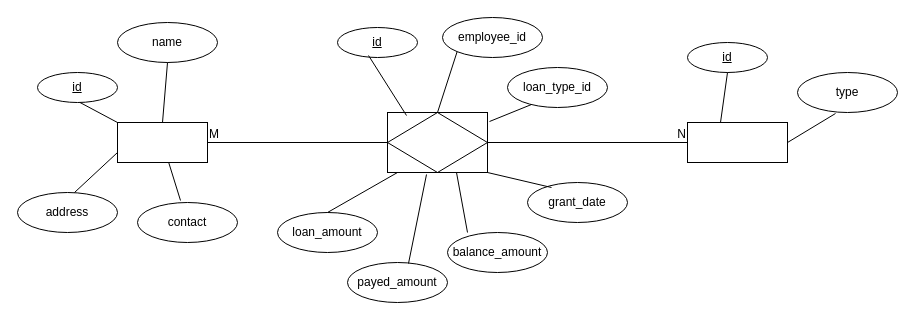
Some shapes in this 915 by 320 pixel diagram are drawn without their labels. The centre of each missing label's shape, as x and y in pixels:
"employee_loan" goes at point 437,142.
"employees" goes at point 162,142.
"loan_types" goes at point 737,142.
